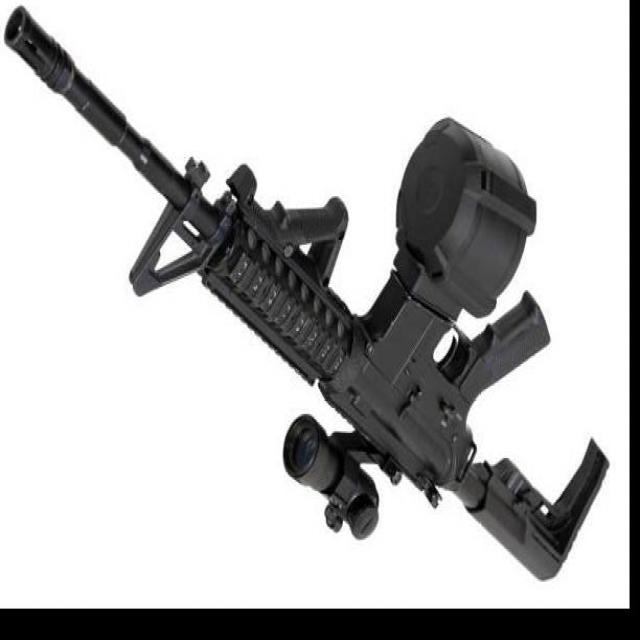heavy-weapon: (4, 6, 610, 582)
